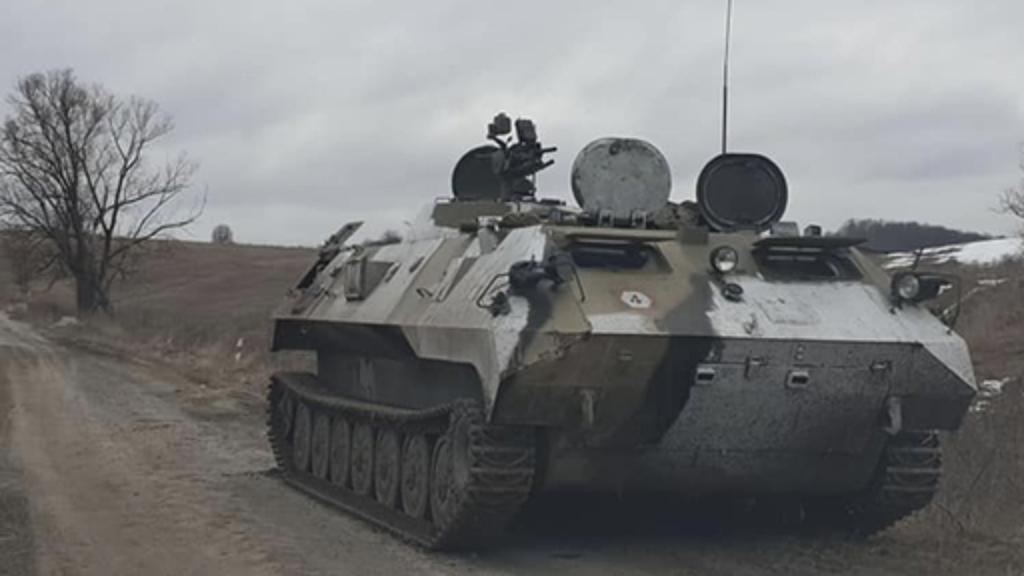APC-IFV: (258, 124, 962, 554)
